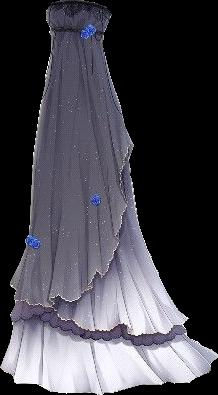Bodice: (46, 0, 111, 34)
Hemline: (7, 140, 135, 310), (0, 354, 217, 394), (52, 310, 189, 337)
Neckline: (52, 0, 113, 14)
Skirt: (0, 33, 217, 394)
Waistline: (50, 30, 104, 38)
